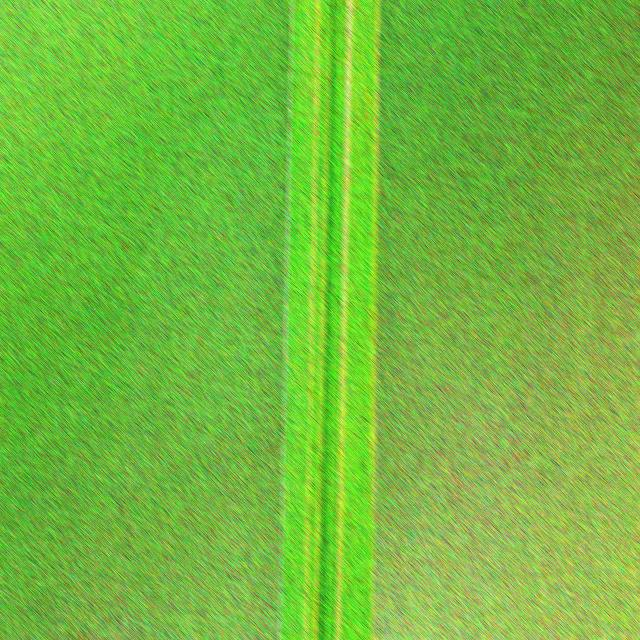BLS: (311, 0, 332, 640), (334, 0, 353, 640), (303, 0, 320, 640)
